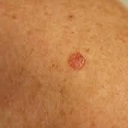Carcinoma: (69, 51, 87, 73)
